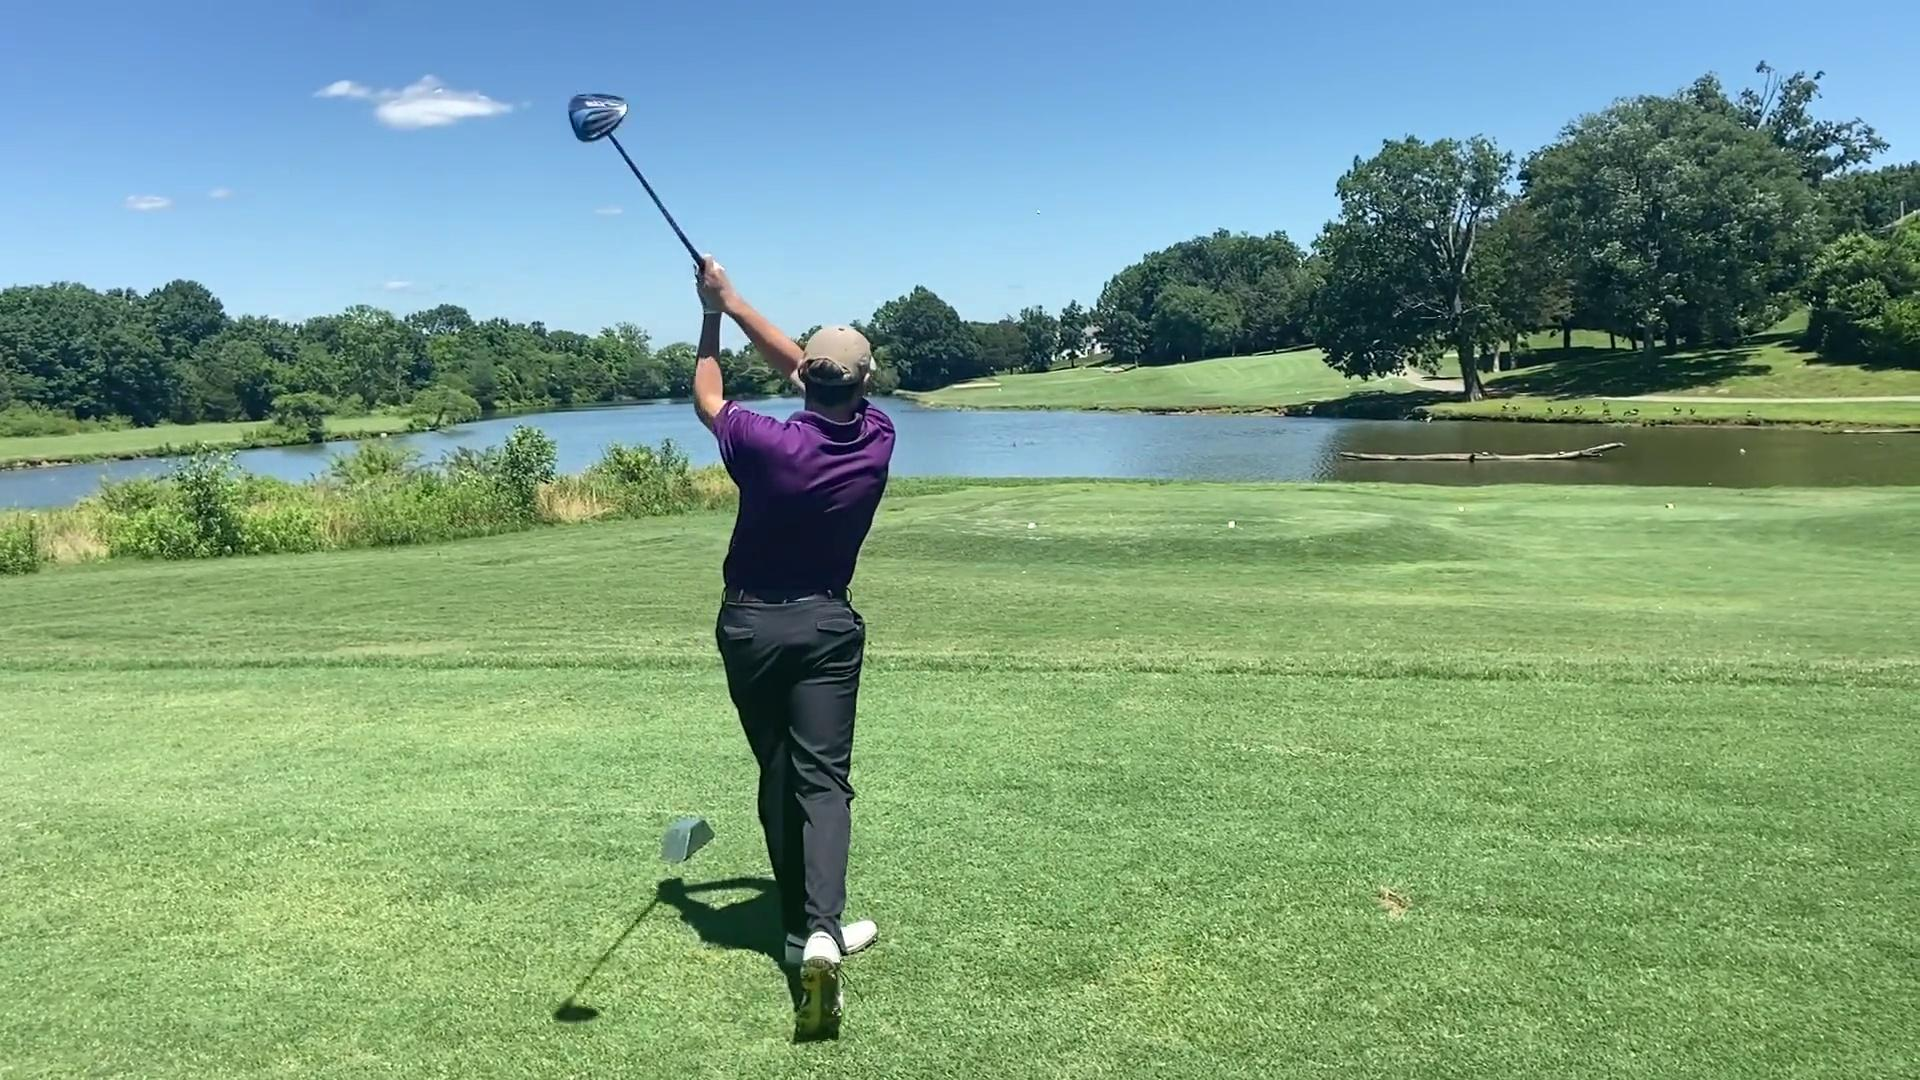ClubHead: (564, 91, 632, 144)
